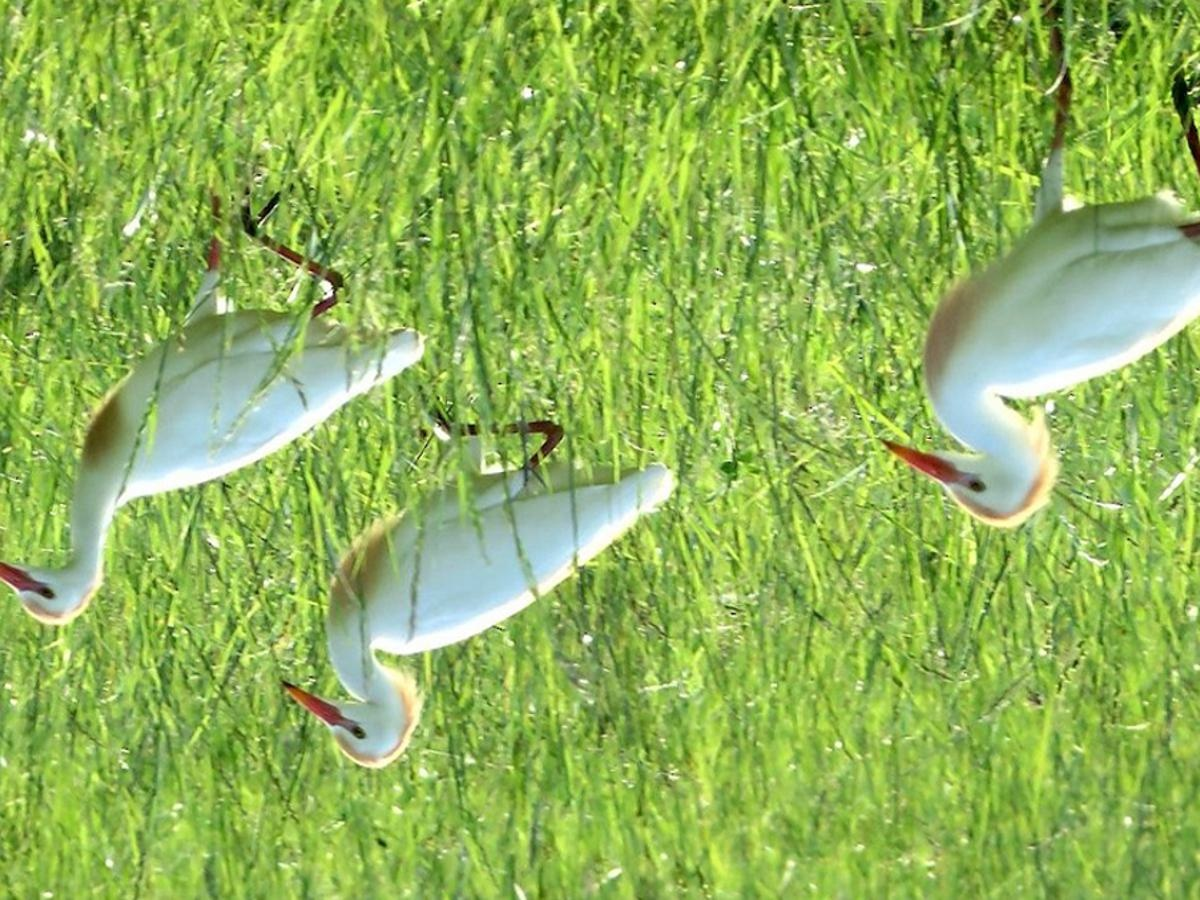egret: (4, 166, 425, 634), (275, 399, 691, 786), (888, 74, 1200, 555)
